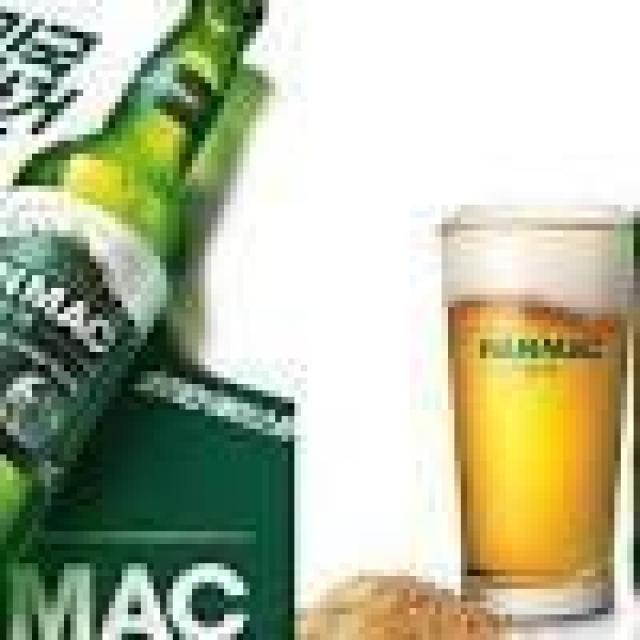beer-bottle: (0, 0, 281, 582)
